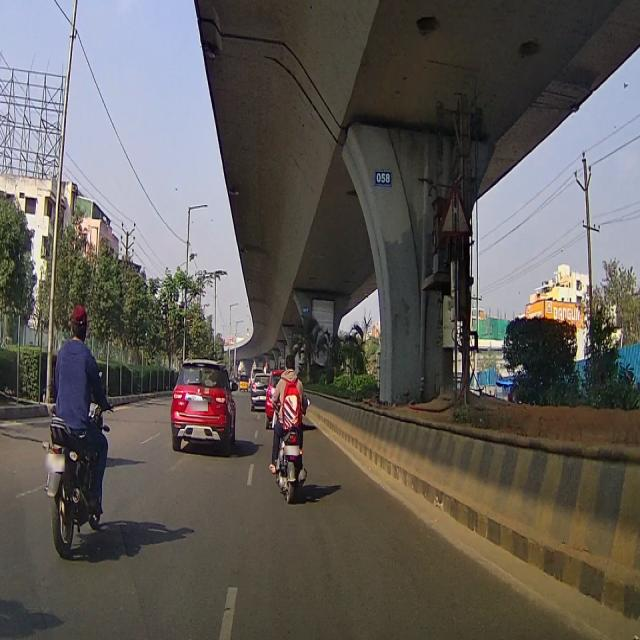gap-in-median: (442, 179, 476, 249)
